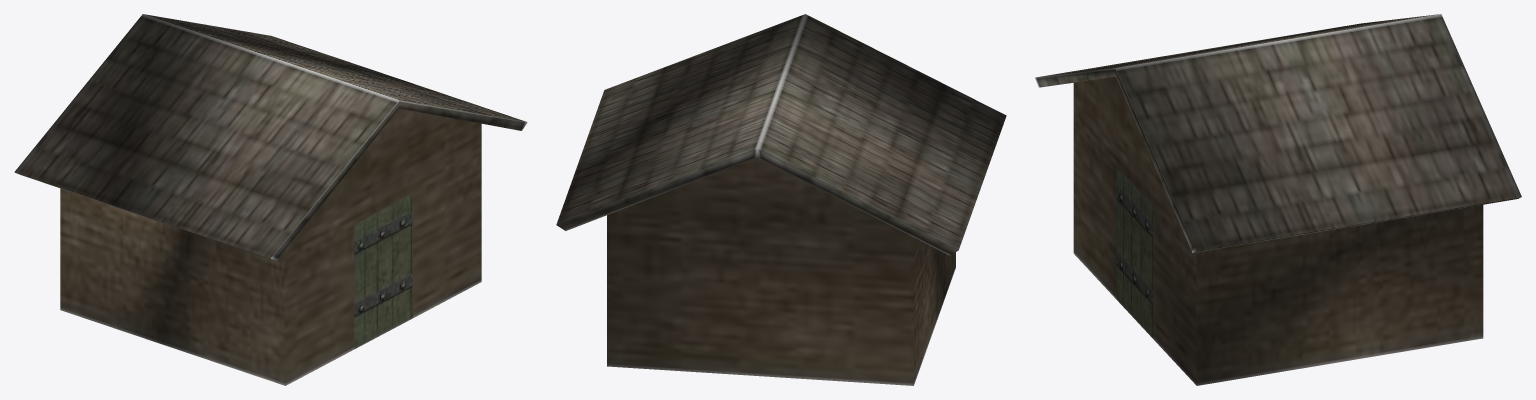
File: sourcebuilding.FBX
The picture shows the model from 3 angles, left to right: view 1: azimuth 30°, elevation 25°; view 2: azimuth 150°, elevation 25°; view 3: azimuth 270°, elevation 25°; orthographic projection. The views are drawn at different scales.
Parts seen in each view (by area): view 1: Do_Strecha, Do_Steny, Do_Dvere; view 2: Do_Steny, Do_Strecha; view 3: Do_Strecha, Do_Steny, Do_Dvere.
Part boxes in pixels (<box>): Do_Strecha: <box>14,14,527,260</box>; Do_Steny: <box>60,108,481,385</box>; Do_Dvere: <box>354,193,412,349</box>; Do_Steny: <box>607,157,955,385</box>; Do_Strecha: <box>556,14,1006,255</box>; Do_Strecha: <box>1035,14,1521,252</box>; Do_Steny: <box>1073,77,1483,385</box>; Do_Dvere: <box>1117,167,1153,338</box>.
Size of the model in its own units: 117 by 61.35 by 106.
1 material, 1 textured.
